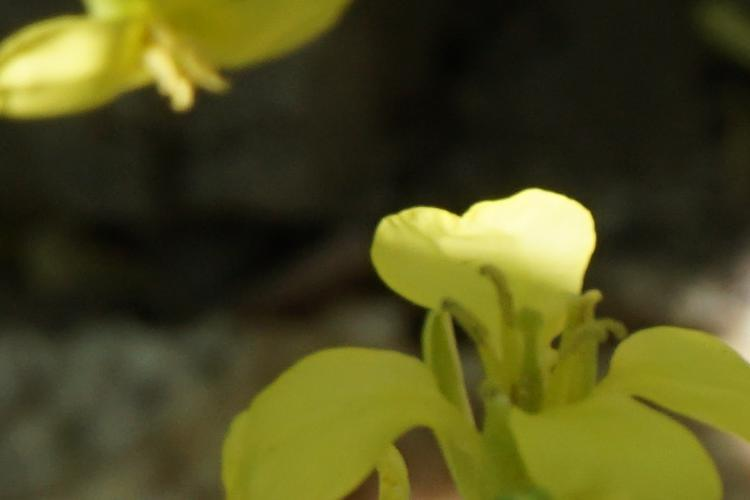yellow: (241, 187, 742, 497), (28, 7, 325, 94)
